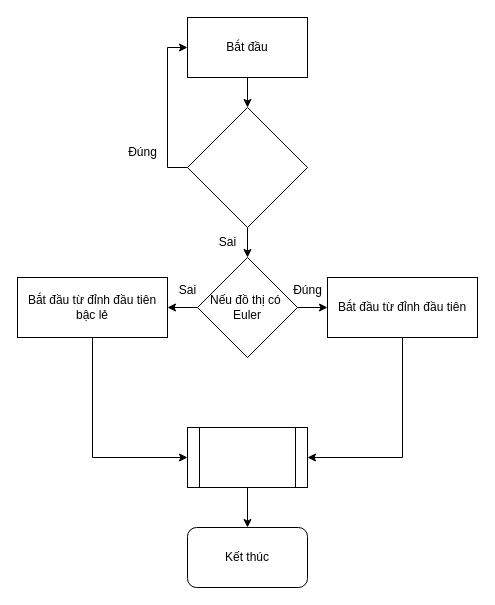
Image size: 495x605. Some labels were removed from this diagram. The centre of each missing label's shape, as x and y in pixels:
"Duyệt đồ thị bằng Fleury" goes at pixel 247 457.
"Nếu đồ thị không có Euler" goes at pixel 247 167.
